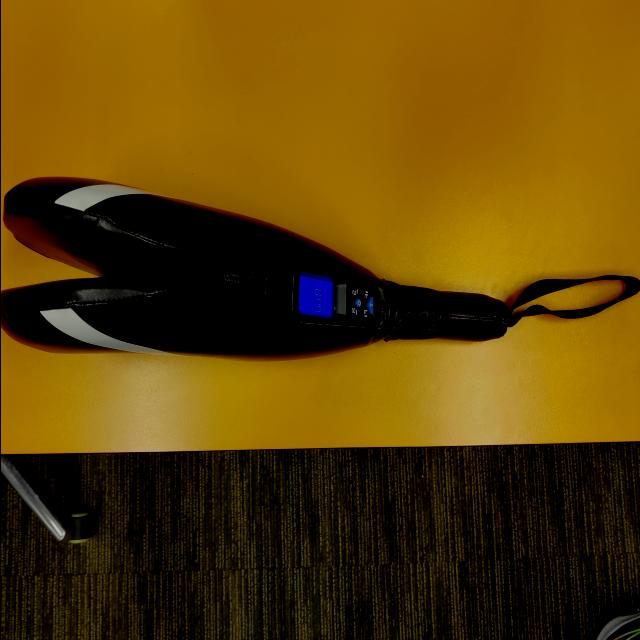paddle: (0, 173, 510, 367)
